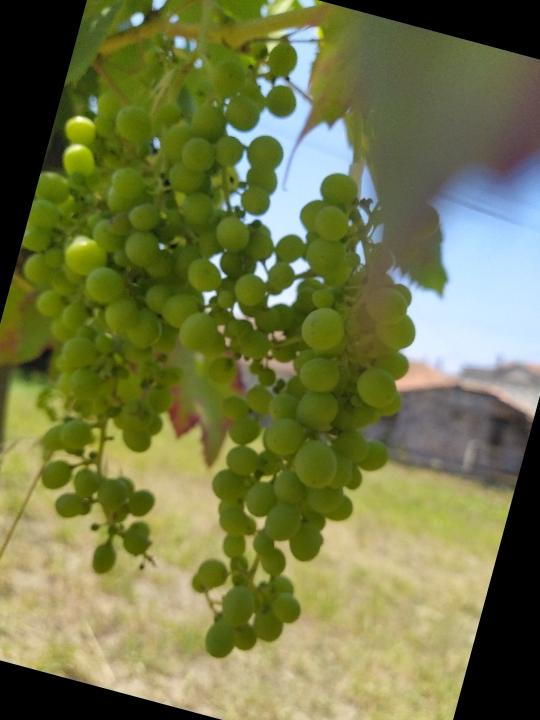grape: (0, 0, 327, 598), (164, 159, 459, 692)
